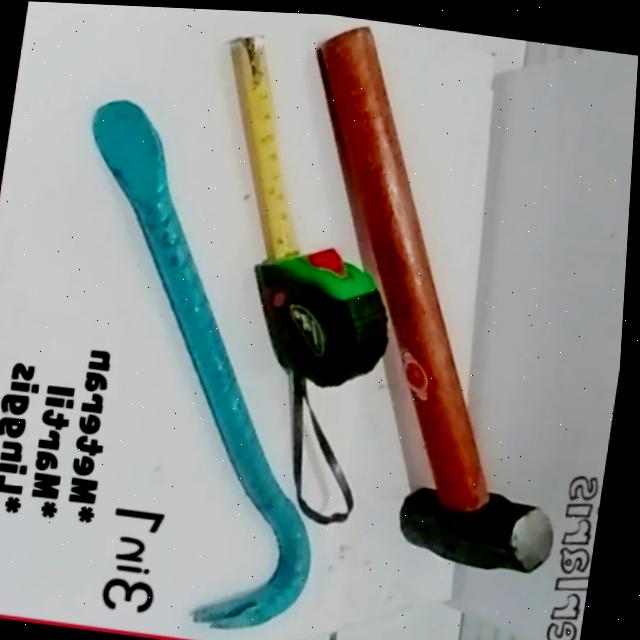crow bar: (92, 98, 317, 626)
